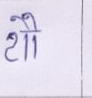o_matra: (20, 11, 43, 58)
